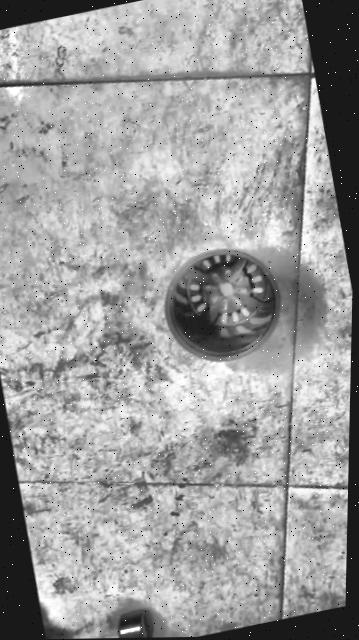pot: (152, 238, 289, 371)
